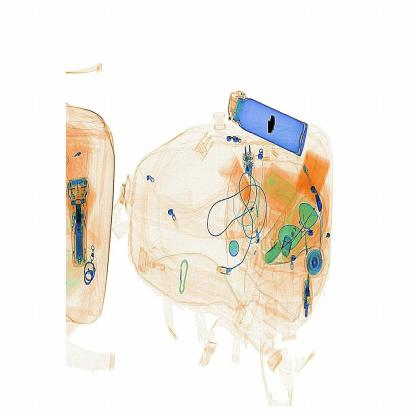knife: (264, 108, 286, 147)
